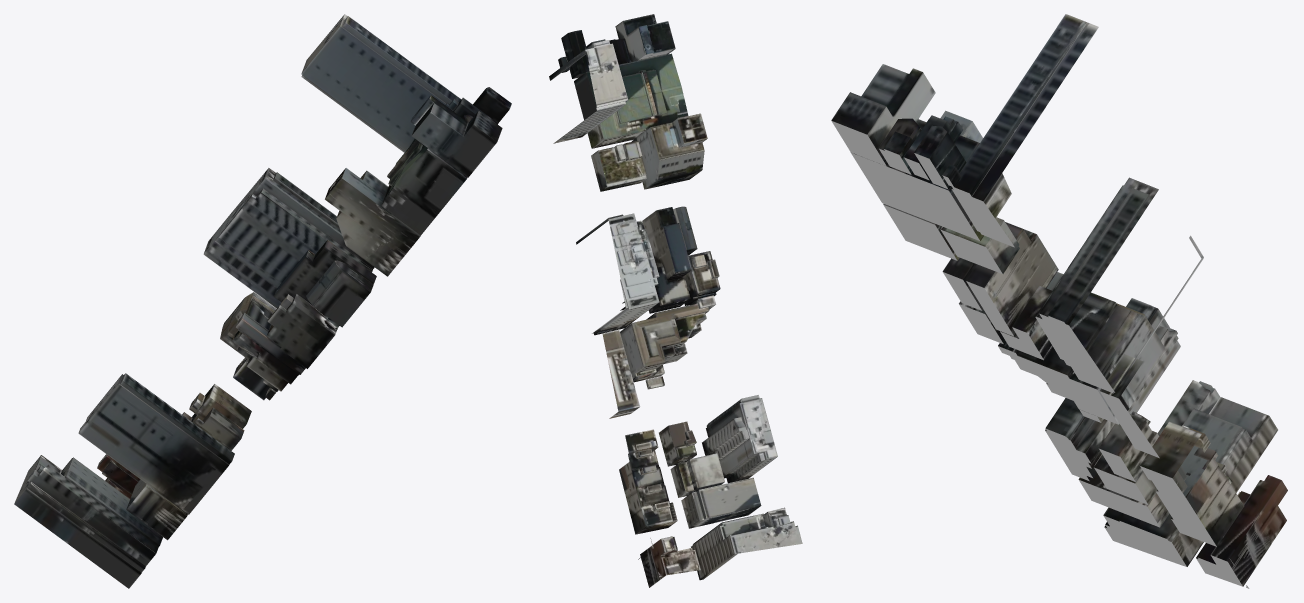
The model's file is 39544_bldg_Building.glb.
3 renders of one model, left to right at view 1: azimuth 30°, elevation 25°; view 2: azimuth 150°, elevation 25°; view 3: azimuth 270°, elevation 25°, orthographic. The views are drawn at different scales.
Bounding box in the file's own units: 105 × 139 × 89.99.
Materials: 2 (1 with a texture image).
